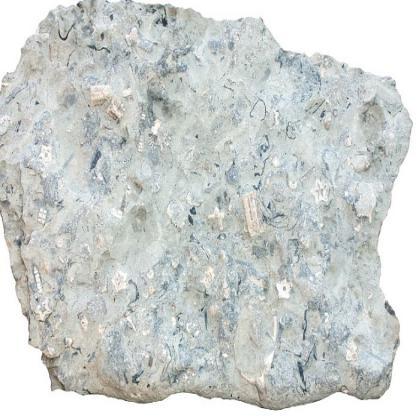Sedimentary_Limestone: (1, 0, 413, 412)
